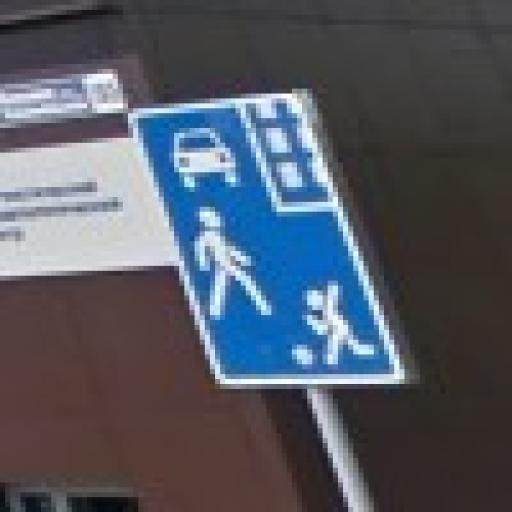traffic_sign: (129, 90, 405, 385)
